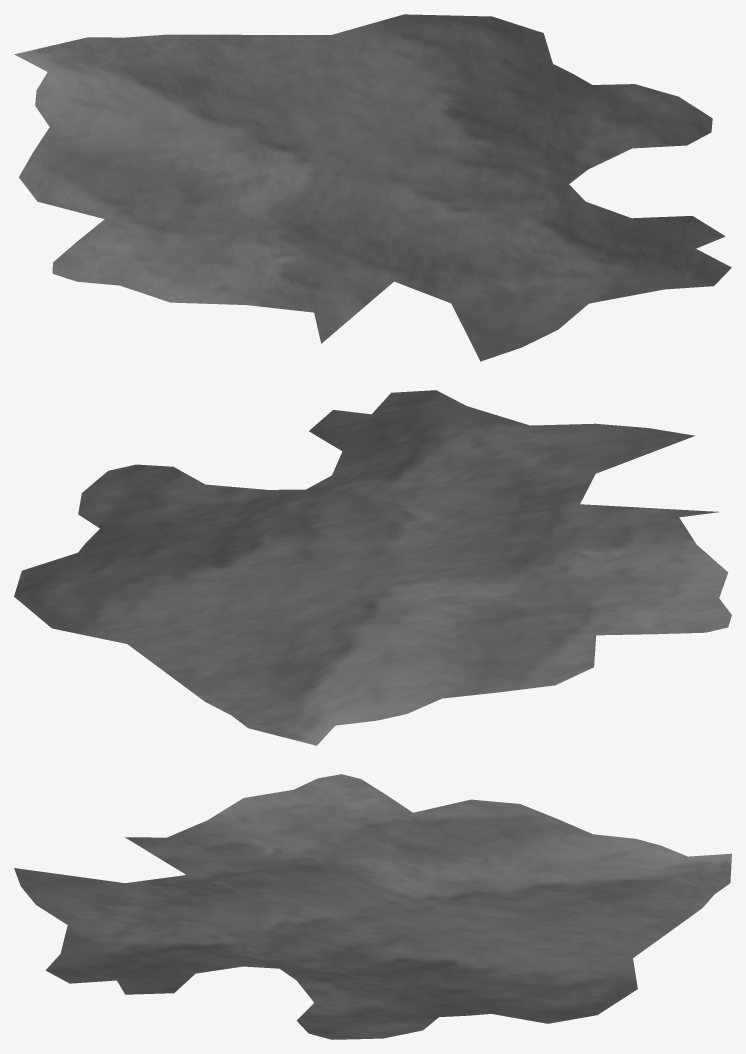
File: cavefloor.FBX
3 renders of one model, top to bottom at view 1: azimuth 30°, elevation 25°; view 2: azimuth 150°, elevation 25°; view 3: azimuth 270°, elevation 25°, orthographic. The views are drawn at different scales.
Visible parts, largest first — view 1: Line001; view 2: Line001; view 3: Line001.
Part boxes in pixels (x1,y1,x2,y2): Line001: (14, 14, 731, 361); Line001: (14, 390, 731, 745); Line001: (14, 774, 731, 1039).
Bounding box in the file's own units: 2018 × 24.69 × 2305.
